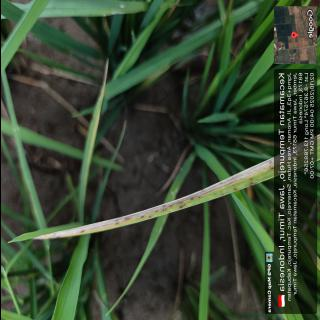Hawar-Daun: (32, 158, 273, 239)
